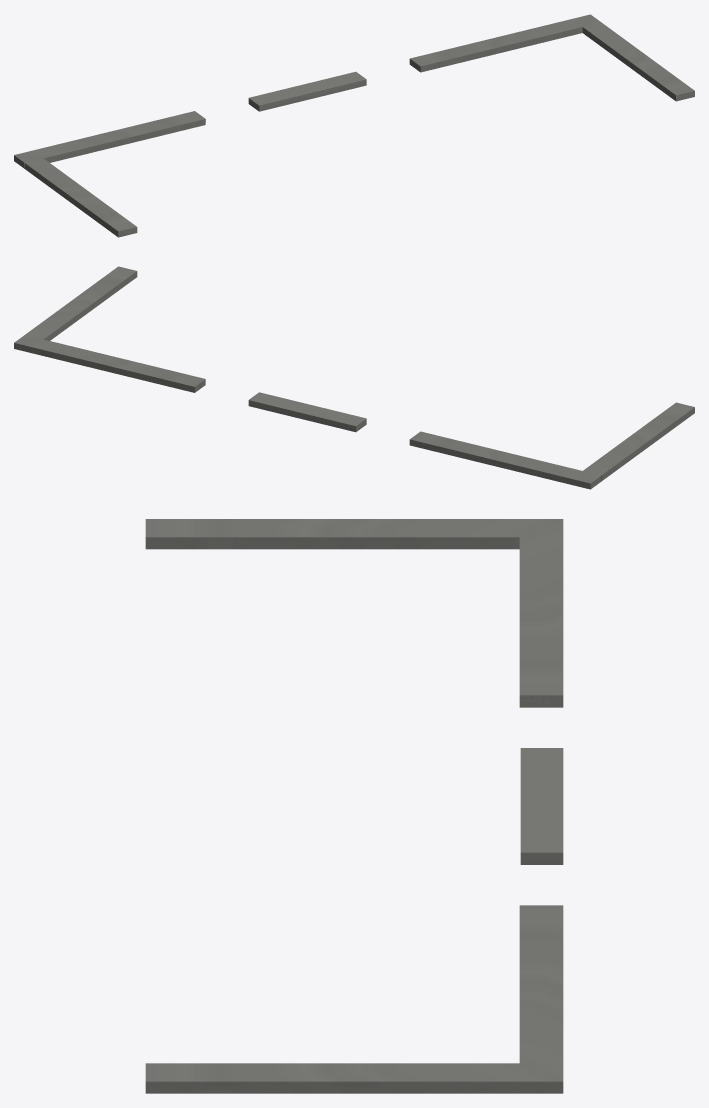
Rendered from highrise_ledges.fbx.
3 views of the same model, one above another, from view 1: azimuth 30°, elevation 25°; view 2: azimuth 150°, elevation 25°; view 3: azimuth 270°, elevation 25° (orthographic). The views are drawn at different scales.
Parts seen in each view (by area): view 1: LeftCorner, RightCorner, CenterLedge; view 2: RightCorner, LeftCorner, CenterLedge; view 3: LeftCorner, RightCorner, CenterLedge.
Part boxes in pixels (left/top/right/bottom): LeftCorner: left=409, top=14, right=694, bottom=101; RightCorner: left=14, top=111, right=205, bottom=237; CenterLedge: left=248, top=71, right=366, bottom=111; RightCorner: left=409, top=402, right=694, bottom=489; LeftCorner: left=14, top=266, right=205, bottom=392; CenterLedge: left=248, top=392, right=366, bottom=432; LeftCorner: left=145, top=905, right=563, bottom=1093; RightCorner: left=145, top=519, right=563, bottom=707; CenterLedge: left=520, top=748, right=563, bottom=864.
Size of the model in its own units: 200 by 2.01 by 62.73.
